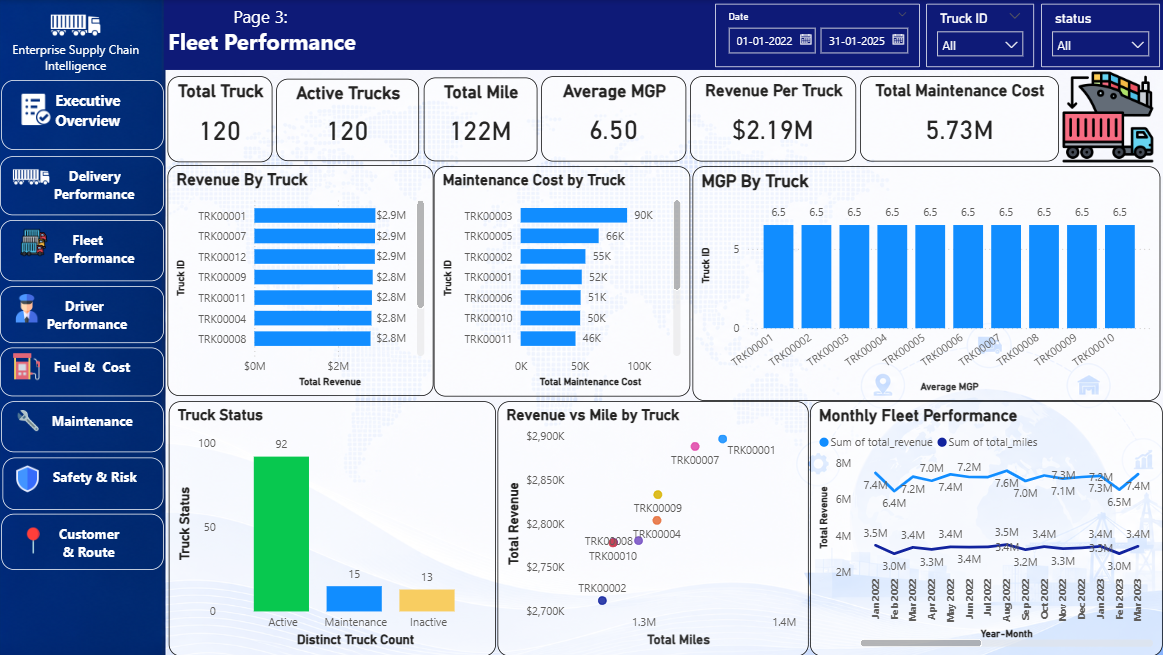

The dashboard page shown, as its layout file describes it:
{"tool":"powerbi","page":{"name":"Fleet Performance","canvas":[1280,720],"ordinal":2},"visuals":[{"type":"group","id":"g1","title":"Group 1","box":[0,171.9,179.8,64.5],"z":0},{"type":"textbox","box":[2.7,502.6,177,57.6],"z":0,"group":"g4"},{"type":"image","box":[1.4,0,163.3,54.9],"z":1000,"group":"g3"},{"type":"card","title":"Total Truck","fields":{"Values":["All Measures.Total Trucks"]},"box":[183.9,83.7,115.3,94.7],"z":1000},{"type":"image","box":[10.9,510.8,38.4,30.2],"z":1000,"group":"g4"},{"type":"textbox","box":[1.4,40.3,163.3,47.6],"z":2000,"group":"g3"},{"type":"clusteredBarChart","title":"Revenue By Truck","fields":{"Y":["All Measures.Total Revenue"],"Category":["DimTrucks.truck_id"]},"box":[183.9,181.1,292.3,253.9],"z":2000},{"type":"group","id":"g2","title":"Group 3","box":[1.4,88.3,178.4,76.8],"z":3000},{"type":"textbox","box":[1.4,564.4,178.4,61.7],"z":3000,"group":"g6"},{"type":"card","title":"Active Trucks","fields":{"Values":["All Measures.Active Truck"]},"box":[303.3,86.4,156.4,90.6],"z":4000},{"type":"textbox","box":[1.4,440.9,178.4,56.3],"z":4000,"group":"g5"},{"type":"clusteredBarChart","title":" Maintenance Cost by Truck ","fields":{"Category":["DimTrucks.truck_id"],"Y":["All Measures.Total Maintenance Cost"]},"box":[476.2,182.5,281.3,252.5],"z":5000},{"type":"textbox","box":[0,382,179.8,53.4],"z":5000,"group":"g7"},{"type":"group","id":"g3","title":"Group 4","box":[1.4,0,163.3,87.8],"z":6000},{"type":"textbox","box":[1.4,88.3,178.4,76.8],"z":6000,"group":"g2"},{"type":"textbox","box":[0,314.2,179.8,62.5],"z":6000,"group":"g9"},{"type":"card","title":"Total Mile","fields":{"Values":["All Measures.Total Miles"]},"box":[465.2,85.1,124.9,91.9],"z":7000},{"type":"clusteredColumnChart","title":"MGP By Truck","fields":{"Category":["DimTrucks.truck_id"],"Y":["All Measures.Average MPG"]},"box":[760.2,182.5,513.2,258],"z":8000},{"type":"group","id":"g4","title":"Group 7","box":[2.7,502.6,177,57.6],"z":9000},{"type":"card","title":"Average MGP","fields":{"Values":["All Measures.Average MPG"]},"box":[594.2,83.7,159.2,93.3],"z":10000},{"type":"textbox","box":[0,241.8,179.8,67.2],"z":10000,"group":"g8"},{"type":"group","id":"g5","title":"Group 8","box":[1.4,440.9,178.4,56.3],"z":11000},{"type":"card","title":"Revenue Per Truck","fields":{"Values":["All Measures.Revenue Per Truck"]},"box":[757.5,83.7,182.5,93.3],"z":12000},{"type":"textbox","box":[0,171.9,179.8,64.5],"z":13000,"group":"g10"},{"type":"group","id":"g6","title":"Group 9","box":[1.4,564.4,178.4,61.7],"z":13000},{"type":"image","box":[15.5,102.8,48.5,34.8],"z":13003,"group":"g2"},{"type":"image","box":[1.4,174.6,65.9,39.8],"z":13007,"group":"g10"},{"type":"card","title":"Total Maintenance Cost","fields":{"Values":["All Measures.Total Maintenance Cost"]},"box":[944.1,83.7,218.2,93.3],"z":14000},{"type":"group","id":"g7","title":"Group 10","box":[0,380.5,179.8,54.9],"z":15000},{"type":"group","id":"g8","title":"Group 11","box":[0,241.8,179.8,67.2],"z":16000},{"type":"group","id":"g9","title":"Group 12","box":[0,314.2,179.8,62.5],"z":17000},{"type":"image","box":[1152.7,76.8,127.6,102.9],"z":19000},{"type":"clusteredColumnChart","title":"Truck Status","fields":{"Category":["DimTrucks.status"],"Y":["All Measures.Distinct Truck Count"]},"box":[185.2,440.1,359.5,279.9],"z":20000},{"type":"scatterChart","title":"Revenue vs Mile by Truck","fields":{"X":["All Measures.Total Miles"],"Y":["All Measures.Total Revenue"],"Series":["DimTrucks.truck_id"]},"box":[546.1,440.1,341.7,279.9],"z":21000},{"type":"lineChart","title":"Monthly Fleet Performance","fields":{"Category":["Dim_Date.YearMonth"],"Y":["Sum(FactDriverMonthlyMetrics.total_revenue)","Sum(FactDriverMonthlyMetrics.total_miles)"]},"box":[889.2,440.5,387,279.9],"z":22000},{"type":"textbox","box":[179.5,0,1100.5,76.8],"z":22001},{"type":"slicer","fields":{"Values":["Dim_Date.Date"]},"box":[784.9,4.1,225,70],"z":22002},{"type":"slicer","fields":{"Values":["DimTrucks.truck_id"]},"box":[1016.8,4.1,118,70],"z":22003},{"type":"slicer","fields":{"Values":["DimTrucks.status"]},"box":[1143.1,4.1,130.4,70],"z":22005},{"type":"group","id":"g10","title":"Group 5","box":[0,171.9,179.8,64.5],"z":27001,"group":"g1"},{"type":"image","box":[13.7,450.5,34.3,23.3],"z":27002,"group":"g5"},{"type":"image","box":[13.7,315.6,31.6,45.3],"z":27006,"group":"g9"},{"type":"image","box":[2.7,251.4,68.6,30.2],"z":27007,"group":"g8"},{"type":"image","box":[20.6,579.3,32,29.2],"z":27008,"group":"g6"},{"type":"image","box":[12.7,380.5,33.3,44],"z":27010,"group":"g7"}]}

Visuals, with their boxes on the page's 1280x720 design canvas (x1, y1, x2, y2). These are canvas units, not pixel positions in the 1163x655 screenshot, which may show the page scaled, cropped or inside an application window:
"Group 1" group: detection(0, 172, 180, 236)
textbox: detection(3, 503, 180, 560)
image: detection(1, 0, 165, 55)
"Total Truck" card: detection(184, 84, 299, 178)
image: detection(11, 511, 49, 541)
textbox: detection(1, 40, 165, 88)
"Revenue By Truck" clusteredBarChart: detection(184, 181, 476, 435)
"Group 3" group: detection(1, 88, 180, 165)
textbox: detection(1, 564, 180, 626)
"Active Trucks" card: detection(303, 86, 460, 177)
textbox: detection(1, 441, 180, 497)
" Maintenance Cost by Truck " clusteredBarChart: detection(476, 182, 758, 435)
textbox: detection(0, 382, 180, 435)
"Group 4" group: detection(1, 0, 165, 88)
textbox: detection(1, 88, 180, 165)
textbox: detection(0, 314, 180, 377)
"Total Mile" card: detection(465, 85, 590, 177)
"MGP By Truck" clusteredColumnChart: detection(760, 182, 1273, 440)
"Group 7" group: detection(3, 503, 180, 560)
"Average MGP" card: detection(594, 84, 753, 177)
textbox: detection(0, 242, 180, 309)
"Group 8" group: detection(1, 441, 180, 497)
"Revenue Per Truck" card: detection(758, 84, 940, 177)
textbox: detection(0, 172, 180, 236)
"Group 9" group: detection(1, 564, 180, 626)
image: detection(16, 103, 64, 138)
image: detection(1, 175, 67, 214)
"Total Maintenance Cost" card: detection(944, 84, 1162, 177)
"Group 10" group: detection(0, 380, 180, 435)
"Group 11" group: detection(0, 242, 180, 309)
"Group 12" group: detection(0, 314, 180, 377)
image: detection(1153, 77, 1280, 180)
"Truck Status" clusteredColumnChart: detection(185, 440, 545, 720)
"Revenue vs Mile by Truck" scatterChart: detection(546, 440, 888, 720)
"Monthly Fleet Performance" lineChart: detection(889, 440, 1276, 720)
textbox: detection(180, 0, 1280, 77)
slicer - Dim_Date.Date: detection(785, 4, 1010, 74)
slicer - DimTrucks.truck_id: detection(1017, 4, 1135, 74)
slicer - DimTrucks.status: detection(1143, 4, 1274, 74)
"Group 5" group: detection(0, 172, 180, 236)
image: detection(14, 450, 48, 474)
image: detection(14, 316, 45, 361)
image: detection(3, 251, 71, 282)
image: detection(21, 579, 53, 608)
image: detection(13, 380, 46, 424)
